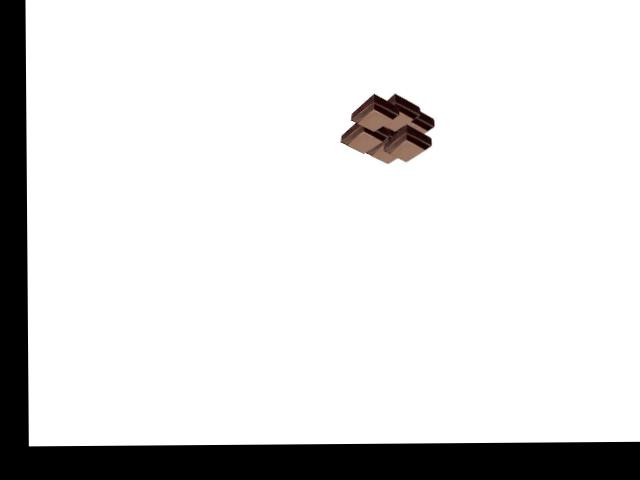chocolate: (341, 96, 437, 166)
